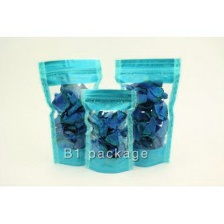snack: (110, 52, 185, 171), (32, 54, 106, 169), (77, 84, 140, 176)
